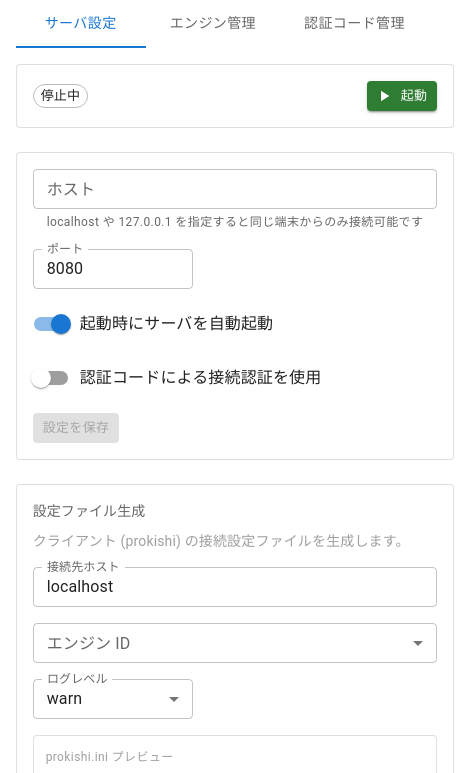
Test: MasterView › edits the server host, saves the config, and clears the unsaved-changes warning
Expected: the text "停止中" is shown, [41,88,80,103]
Type "0.0.0.0" into the field labelled "ホスト" at point(235, 189), box [33,169,437,209]
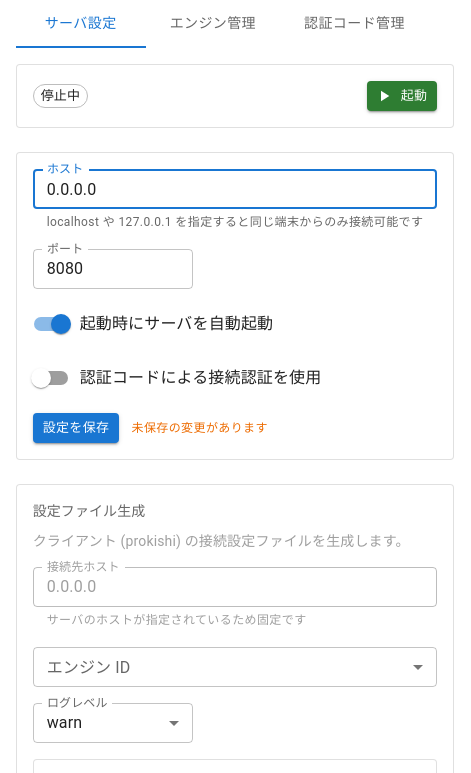
Now the text "未保存の変更があります" is shown, box [132,421,268,435]
Now the button "設定を保存" is enabled
Click the button "設定を保存" at point(76, 428), box [33,413,120,443]
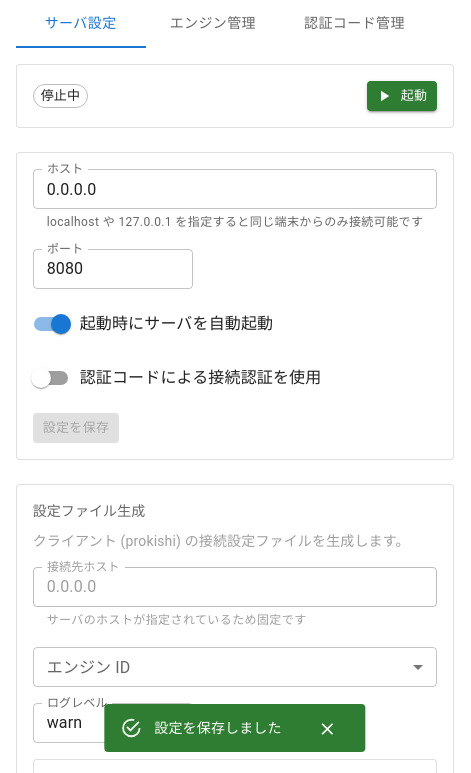
Now the text "設定を保存しました" is shown, box [154,720,282,736]
Now the text "未保存の変更があります" is gone
